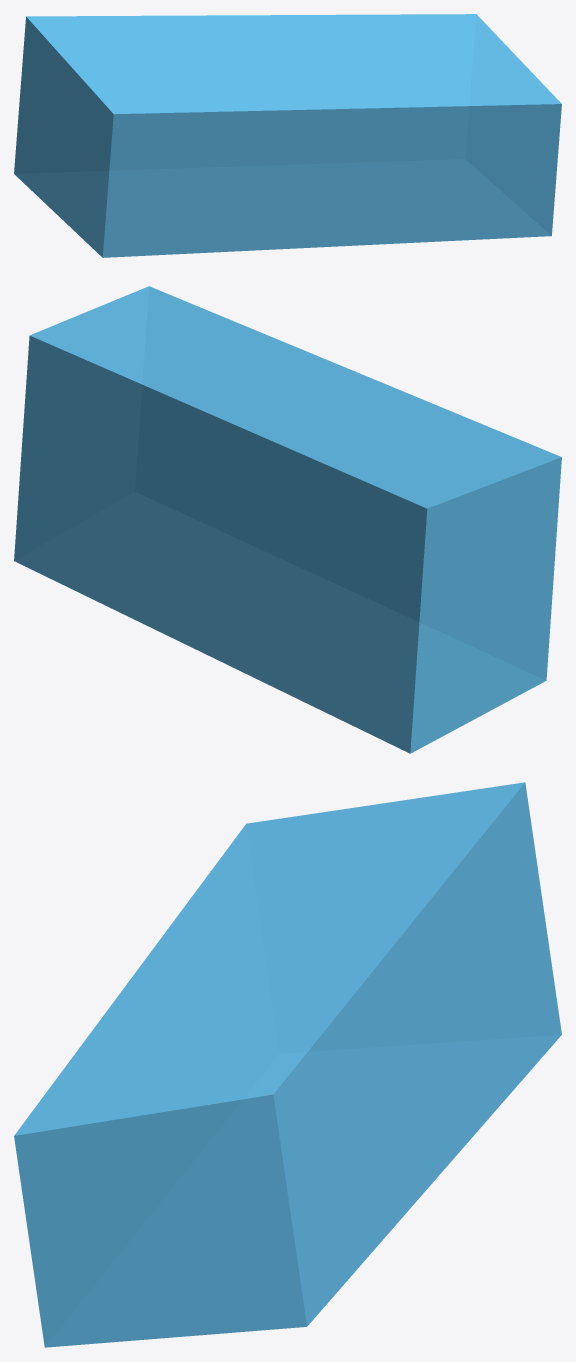
The model's file is Event_420094457_HErechit_53.fbx.
The picture shows the model from 3 angles, top to bottom: view 1: azimuth 30°, elevation 25°; view 2: azimuth 150°, elevation 25°; view 3: azimuth 270°, elevation 25°; orthographic projection. The views are drawn at different scales.
Visible parts, largest first — view 1: Model; view 2: Model; view 3: Model.
Part boxes in pixels (x1,y1,x2,y2): Model: [14, 14, 561, 257]; Model: [14, 286, 561, 753]; Model: [14, 782, 561, 1347].
Bounding box in the file's own units: 0.9674 × 0.481 × 0.8142.
